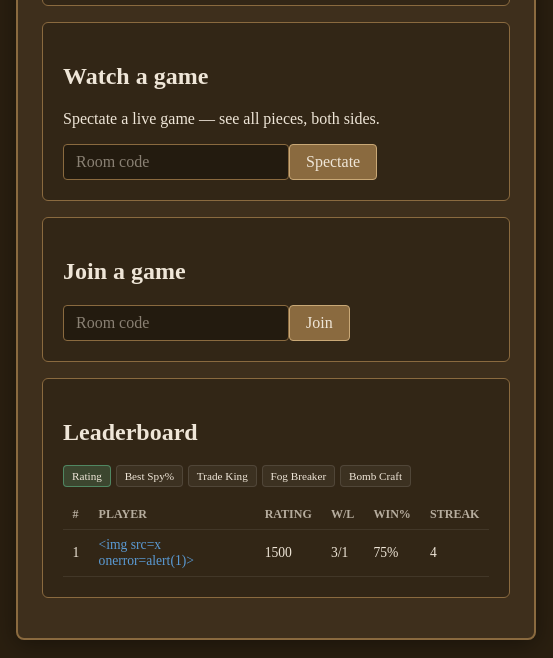
HomePage leaderboard › escapes usernames and switches percent suffixes by category
(page scrolled)
Check: the text "75%" is shown, box 364,529 -> 420,577
Check: the link "<img src=x onerror=alert(1)>" is shown, box 99,537 -> 194,568
Click the button "Best Spy%".
click(149, 476)  # box 116,465 -> 183,487
(page scrolled)
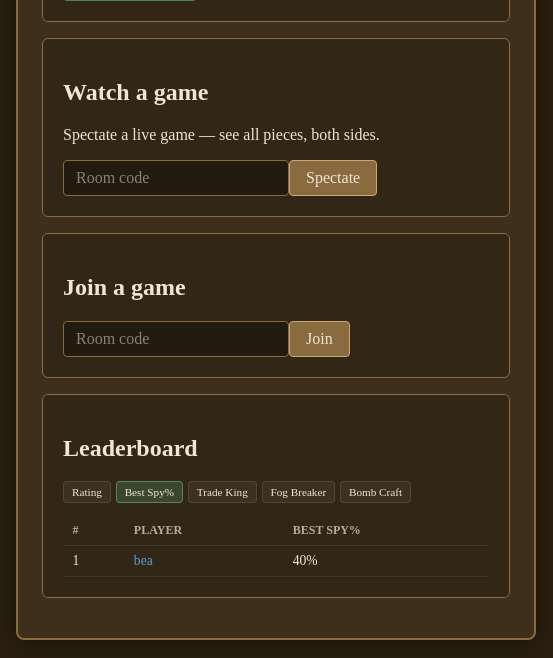
Check: the text "40%" is shown, box 283,545 -> 489,577
Click the button "Trade King".
click(222, 492)  # box 188,481 -> 257,503
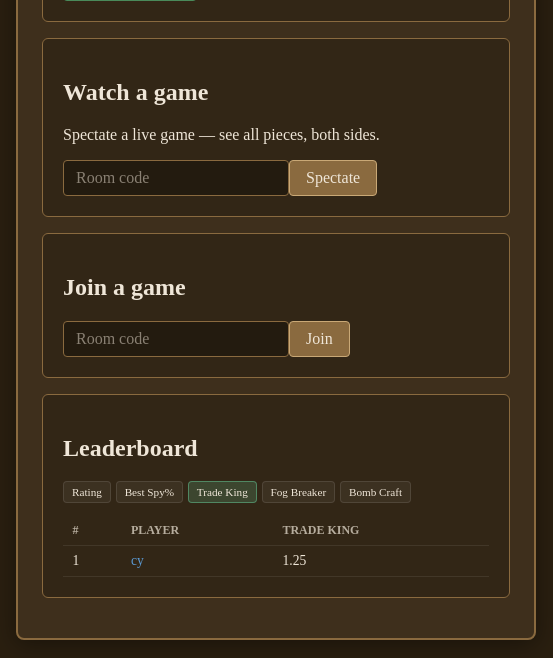
Check: the text "1.25" is shown, box 273,545 -> 489,577
